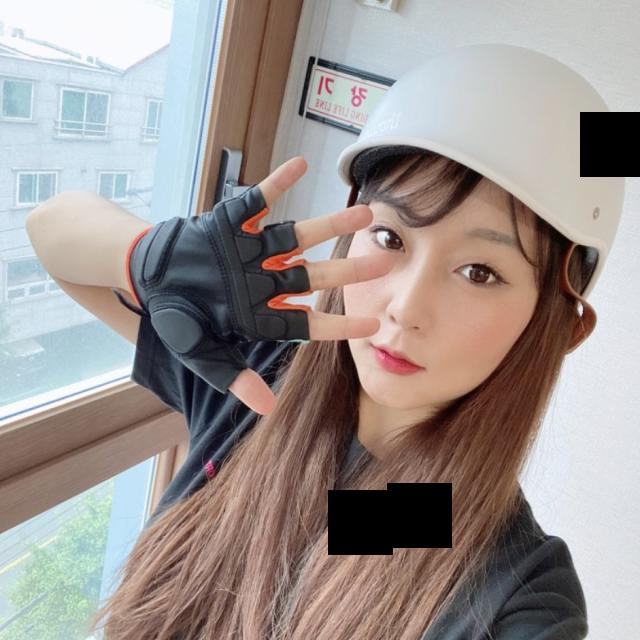Helmet: (334, 41, 626, 407)
